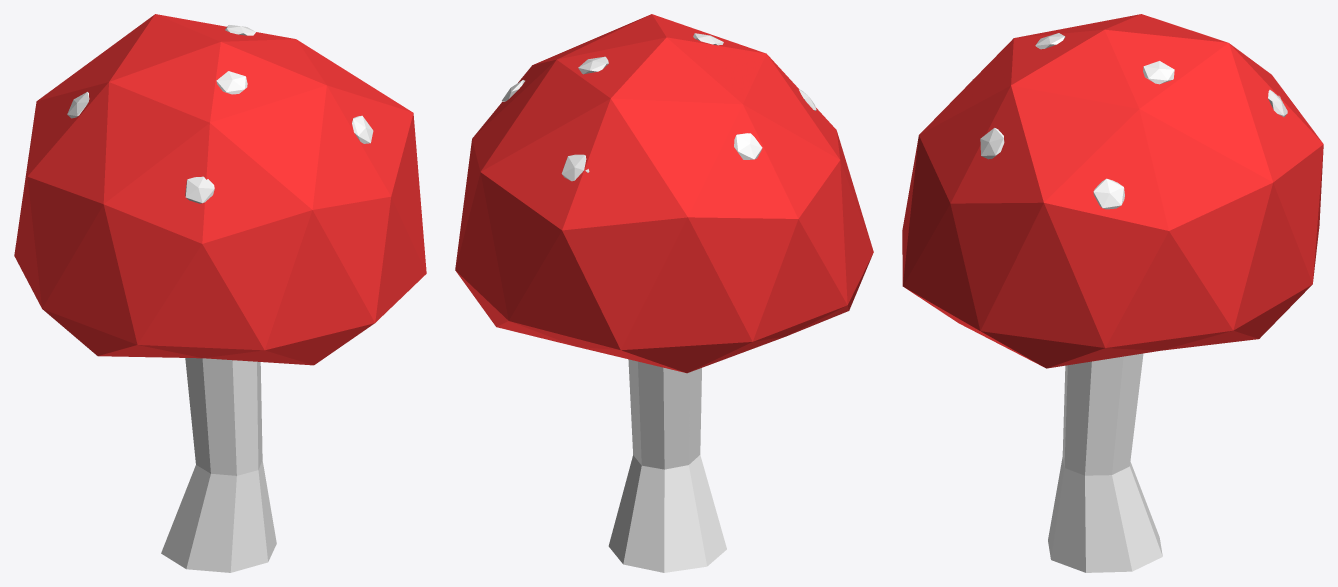
The model's file is Mushroom_01.fbx.
3 renders of one model, left to right at view 1: azimuth 30°, elevation 25°; view 2: azimuth 150°, elevation 25°; view 3: azimuth 270°, elevation 25°, orthographic. The views are drawn at different scales.
Visible parts, largest first — view 1: Mushroom_01; view 2: Mushroom_01; view 3: Mushroom_01.
Part boxes in pixels (x1,y1,x2,y2): Mushroom_01: [14, 14, 426, 572]; Mushroom_01: [455, 14, 873, 572]; Mushroom_01: [902, 14, 1323, 572].
Size of the model in its own units: 26.07 by 35.22 by 25.88.
